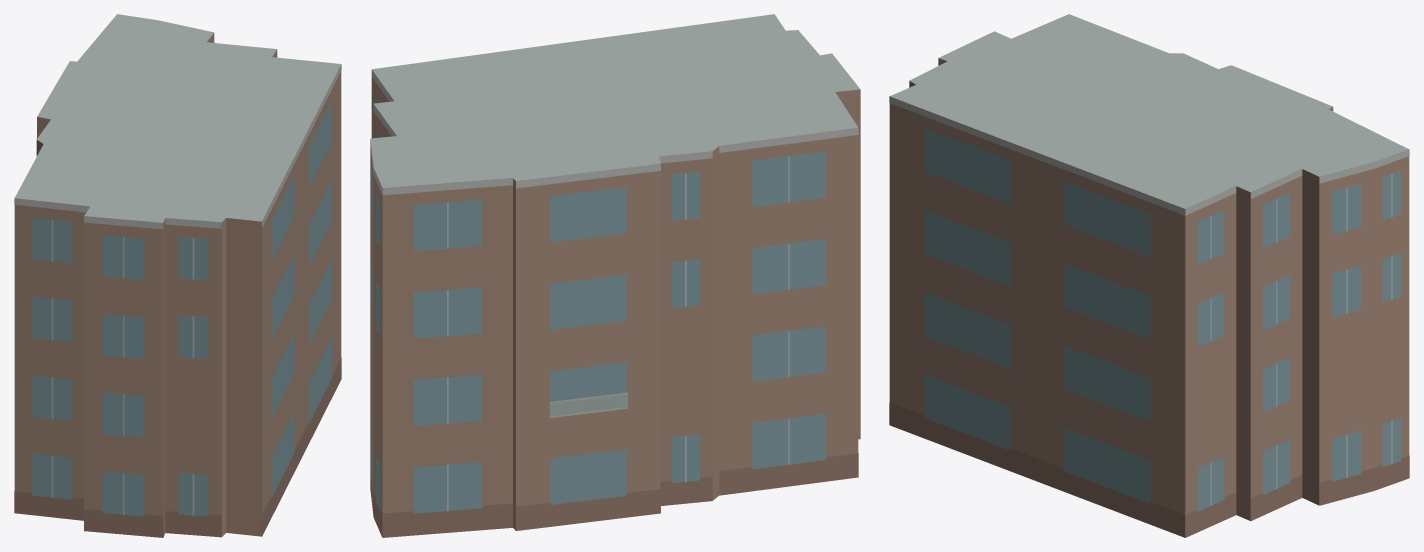
Rendered from survey-upis-32730433.glb.
The picture shows the model from 3 angles, left to right: view 1: azimuth 30°, elevation 25°; view 2: azimuth 150°, elevation 25°; view 3: azimuth 270°, elevation 25°; orthographic projection. The views are drawn at different scales.
Visible parts, largest first — view 1: survey-upis-32730433.tmp; view 2: survey-upis-32730433.tmp; view 3: survey-upis-32730433.tmp.
Part boxes in pixels (bbox=[...]): survey-upis-32730433.tmp: bbox=[14, 14, 341, 537]; survey-upis-32730433.tmp: bbox=[370, 14, 860, 537]; survey-upis-32730433.tmp: bbox=[889, 14, 1409, 537].
Bounding box in the file's own units: 15.08 × 11.85 × 16.98.
